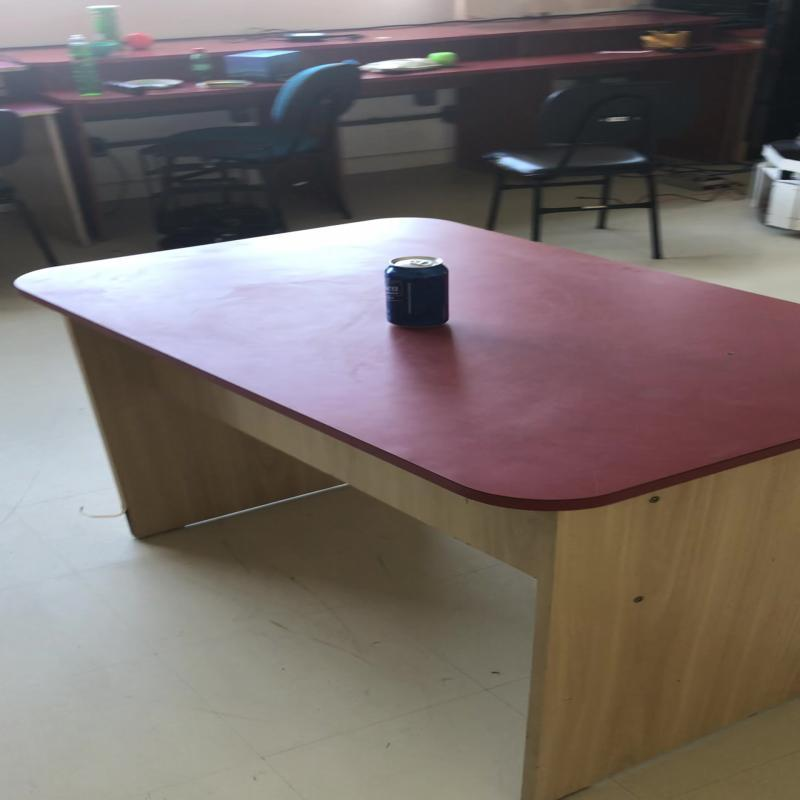tonic: (381, 255, 449, 327), (65, 33, 102, 96), (84, 4, 122, 46), (187, 46, 212, 80)
